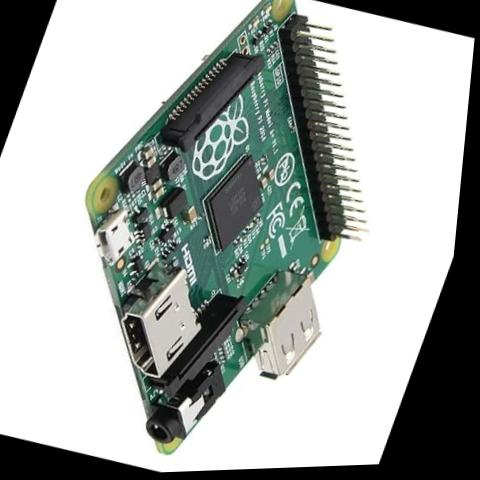Raspberry-Pi-1-Model-A-: (0, 0, 457, 479)
